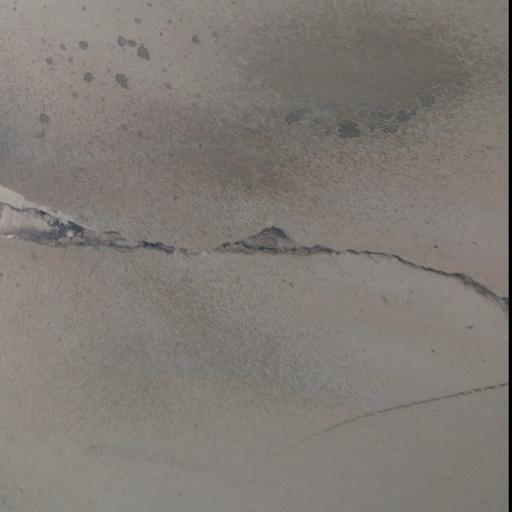major_crack: (0, 183, 507, 319)
